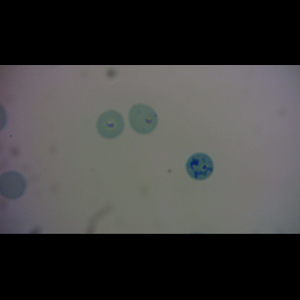aggregate reticulocyte: (185, 152, 214, 181)
erythrocyte: (95, 109, 126, 139), (1, 170, 27, 200)
punctate reticulocyte: (128, 103, 159, 135)
